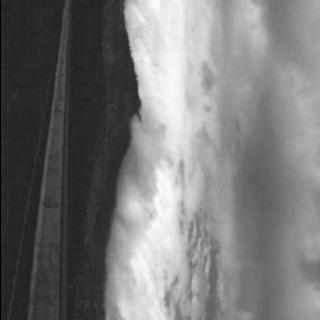Stratocumulus: (109, 0, 320, 320)
